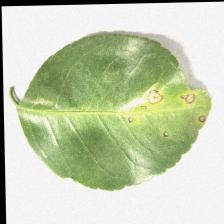canker: (122, 73, 215, 135)
